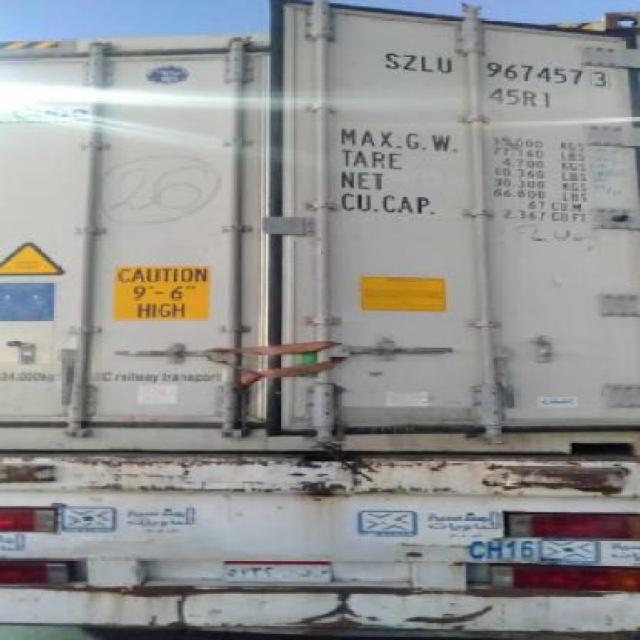ISO: (484, 83, 558, 115)
container_number: (382, 44, 612, 90)
